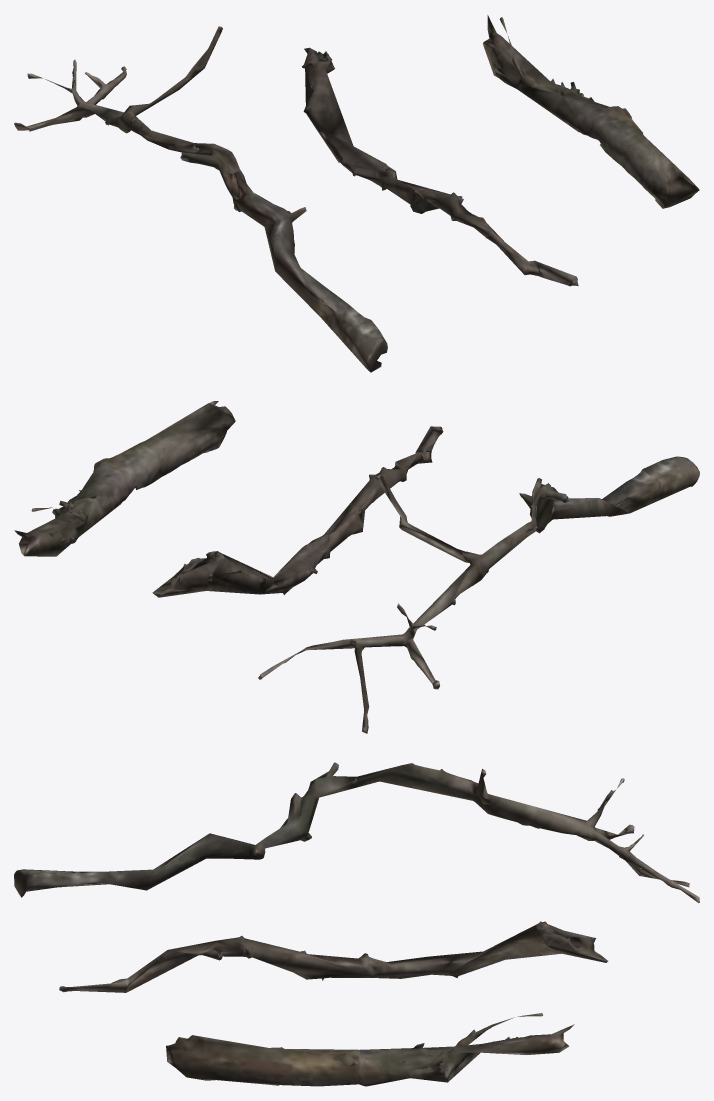
Rendered from dry_branches_medium_01_lod2.glb.
The picture shows the model from 3 angles, top to bottom: view 1: azimuth 30°, elevation 25°; view 2: azimuth 150°, elevation 25°; view 3: azimuth 270°, elevation 25°; orthographic projection. The views are drawn at different scales.
Parts seen in each view (by area): view 1: dry_branches_medium_01_c; view 2: dry_branches_medium_01_c; view 3: dry_branches_medium_01_c.
Part boxes in pixels (bbox=[...]): dry_branches_medium_01_c: bbox=[14, 15, 699, 372]; dry_branches_medium_01_c: bbox=[14, 401, 699, 733]; dry_branches_medium_01_c: bbox=[14, 762, 699, 1086].
Size of the model in its own units: 1.05 by 0.34 by 1.3.
1 material, 1 textured.
